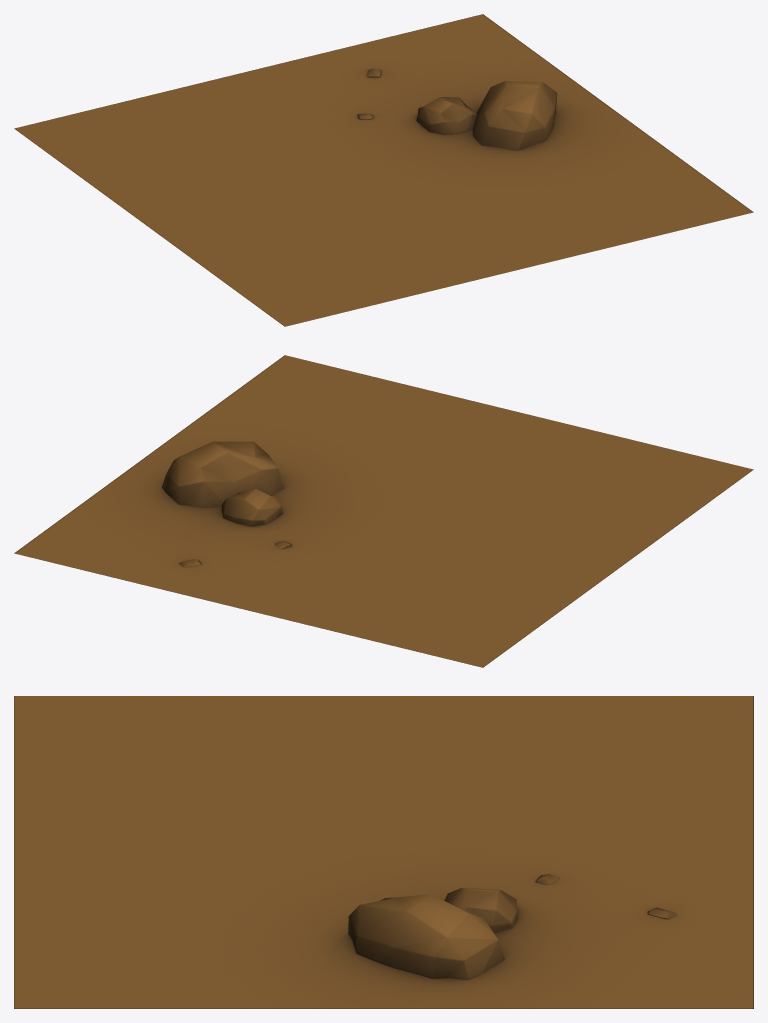
Rendered from Rubble.FBX.
3 views of the same model, one above another, from view 1: azimuth 30°, elevation 25°; view 2: azimuth 150°, elevation 25°; view 3: azimuth 270°, elevation 25° (orthographic). The views are drawn at different scales.
Visible parts, largest first — view 1: Box085; view 2: Box085; view 3: Box085.
Part boxes in pixels (box(x1,y1,x2,y2)): Box085: box(14, 14, 753, 326); Box085: box(14, 355, 753, 667); Box085: box(14, 696, 753, 1008).
Bounding box in the file's own units: 59.06 × 6.78 × 59.06.
